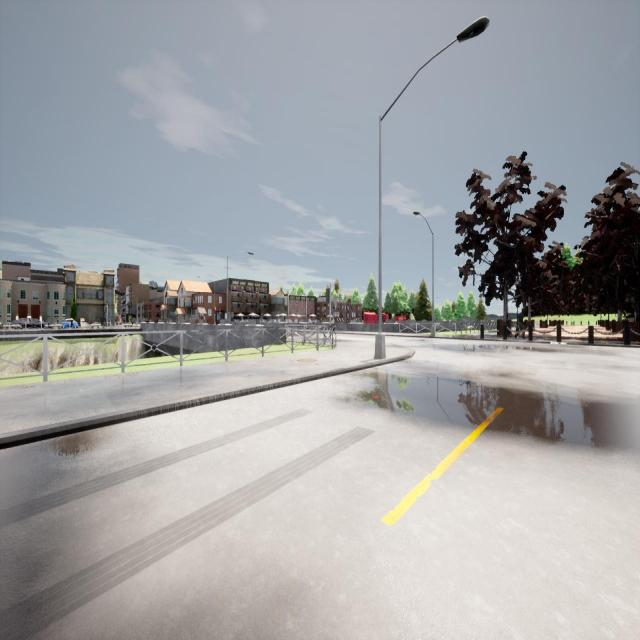Pedestrian: (513, 306, 528, 341)
Vehicle: (13, 318, 45, 329), (62, 318, 78, 328)
traffic_light: (326, 288, 330, 303), (104, 306, 107, 314), (214, 307, 216, 314)
